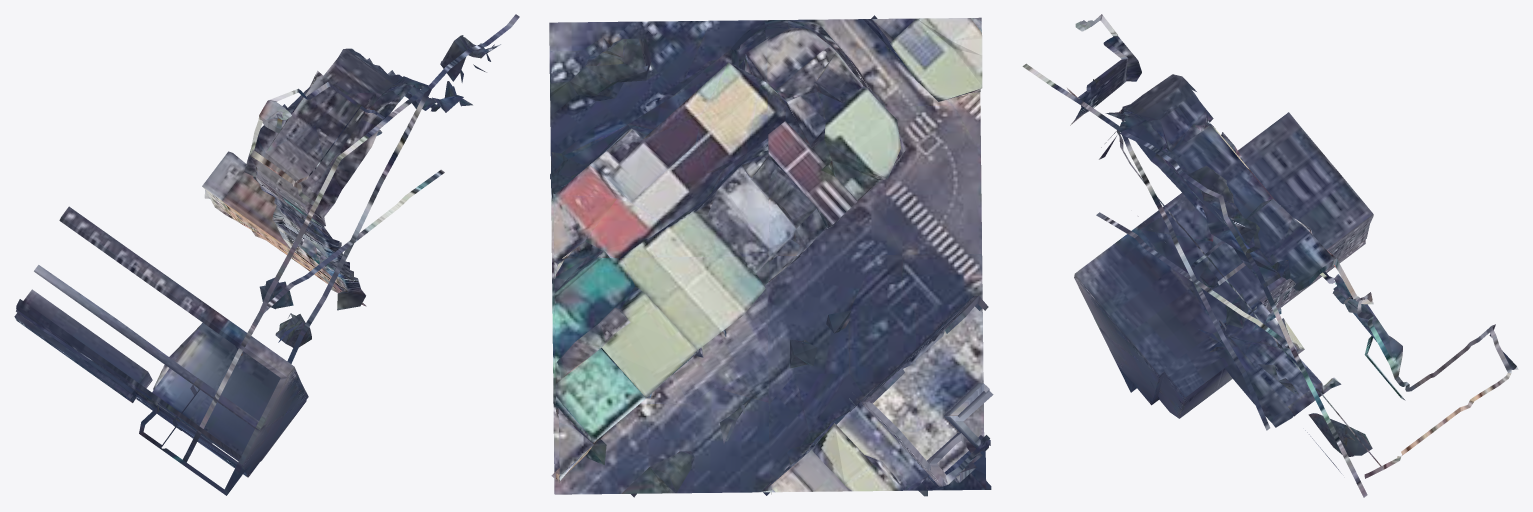
The picture shows the model from 3 angles, left to right: view 1: azimuth 30°, elevation 25°; view 2: azimuth 150°, elevation 25°; view 3: azimuth 270°, elevation 25°; orthographic projection. The views are drawn at different scales.
Size of the model in its own units: 94.13 by 80.47 by 92.47.
Materials: 2 (2 with a texture image).
